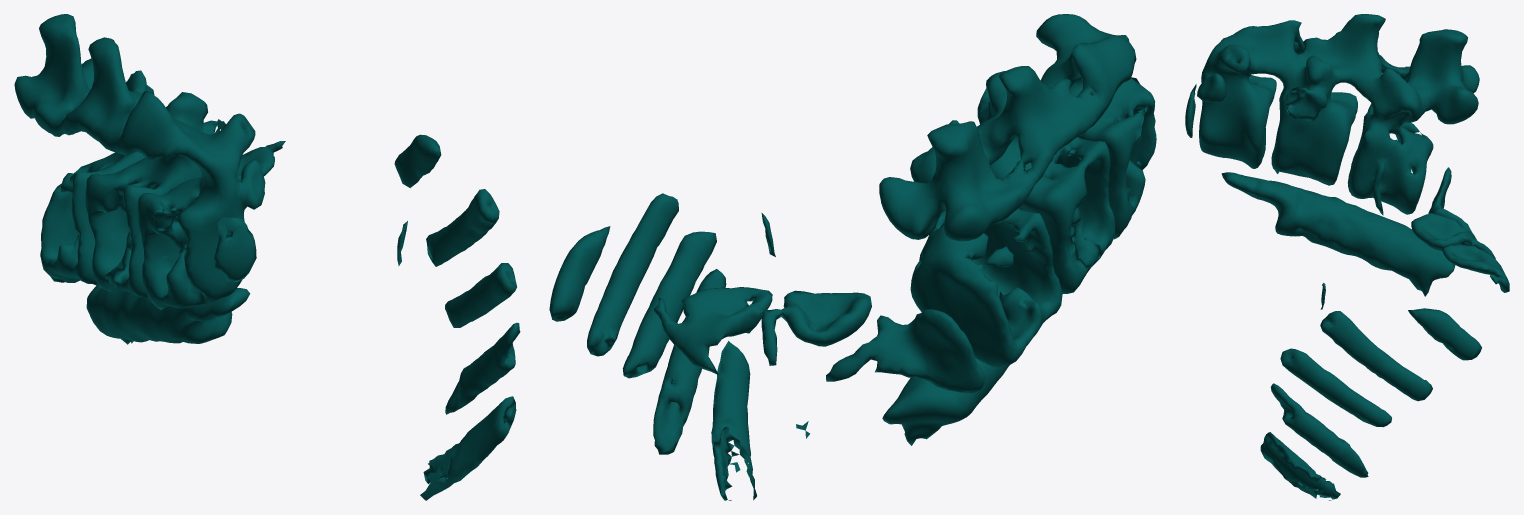
Rendered from P001-Anatomy.obj.
3 views of the same model, side by side, from view 1: azimuth 30°, elevation 25°; view 2: azimuth 150°, elevation 25°; view 3: azimuth 270°, elevation 25° (orthographic). The views are drawn at different scales.
Visible parts, largest first — view 1: grp1; view 2: grp1; view 3: grp1.
Part boxes in pixels (bbox=[...]): grp1: bbox=[14, 14, 520, 500]; grp1: bbox=[549, 14, 1156, 500]; grp1: bbox=[1185, 14, 1509, 500].
Bounding box in the file's own units: 136 × 159 × 123.
